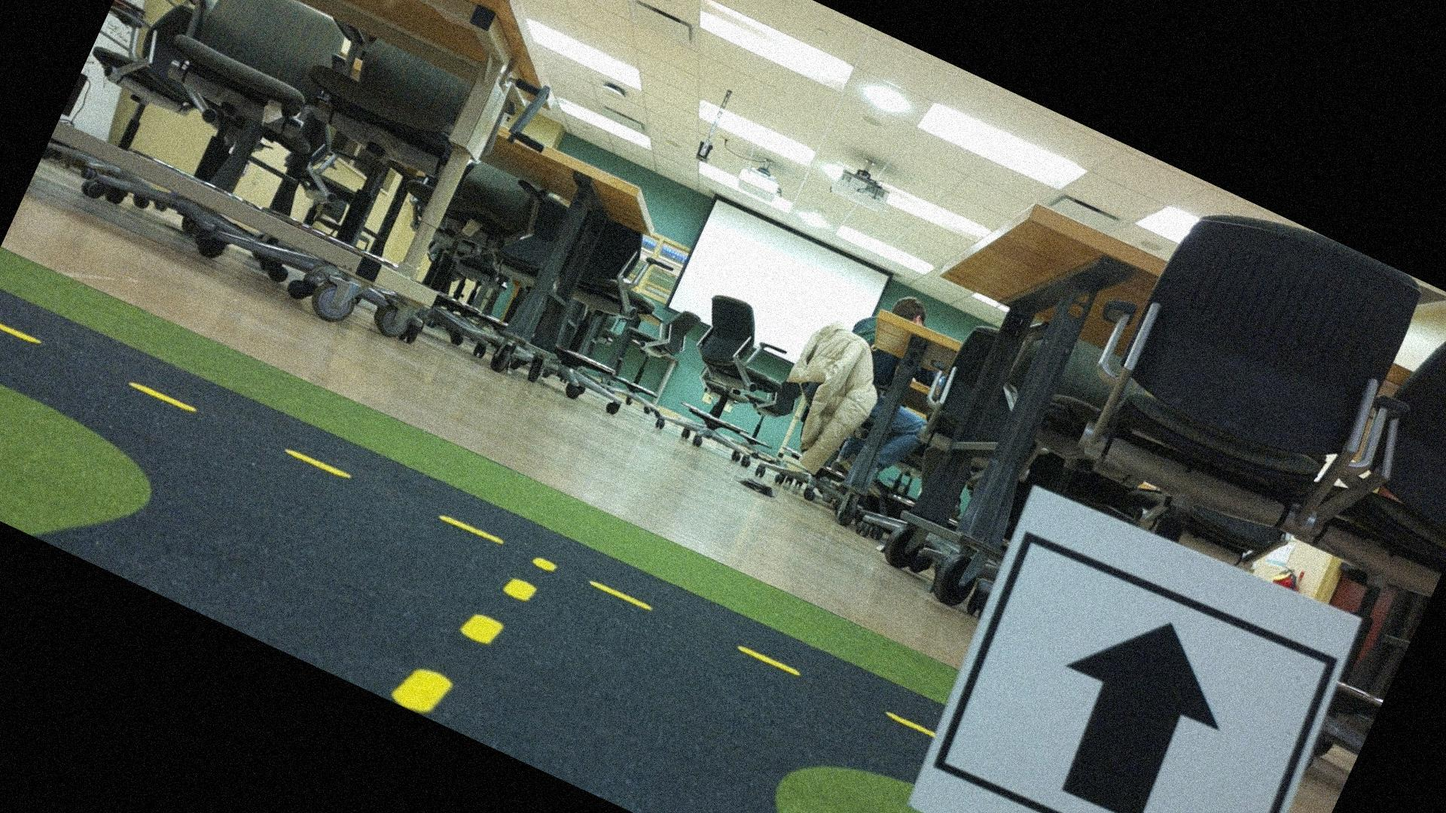gostraight: (914, 509, 1343, 812)
yellowline: (0, 289, 935, 755), (390, 524, 555, 738)
